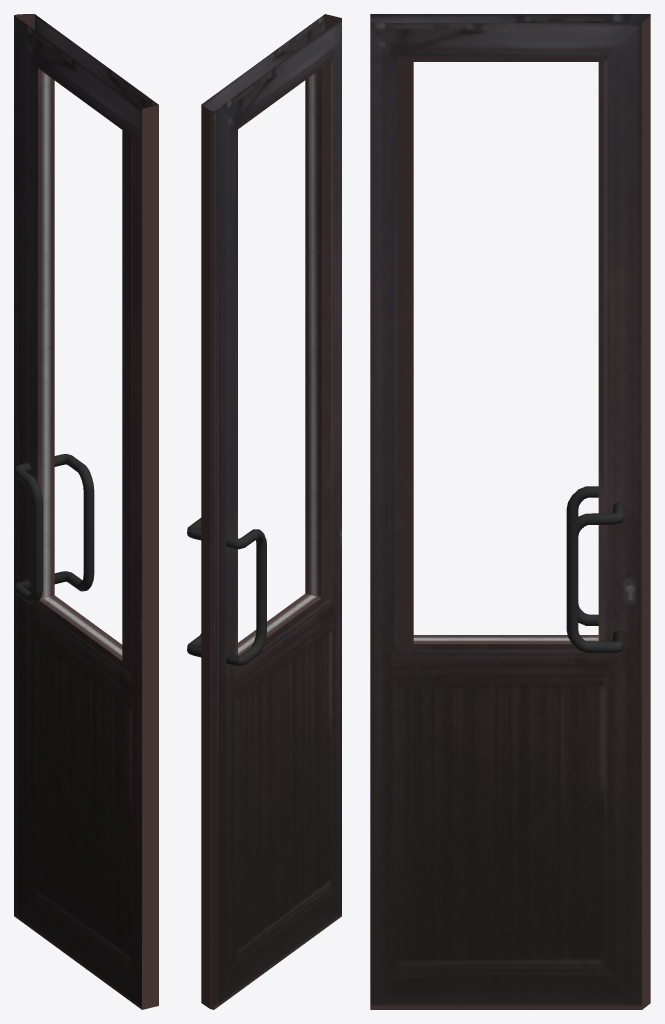
Rendered from kor_R.glb.
3 views of the same model, side by side, from view 1: azimuth 30°, elevation 25°; view 2: azimuth 150°, elevation 25°; view 3: azimuth 270°, elevation 25° (orthographic). The views are drawn at different scales.
Parts seen in each view (by area): view 1: door_11.002; view 2: door_11.002; view 3: door_11.002.
Part boxes in pixels (x1=…): door_11.002: x1=14, y1=14, x2=158, y2=1009; door_11.002: x1=187, y1=14, x2=341, y2=1009; door_11.002: x1=370, y1=14, x2=650, y2=1009.
Bounding box in the file's own units: 0.1652 × 2.36 × 0.6079.
1 material, 1 textured.
